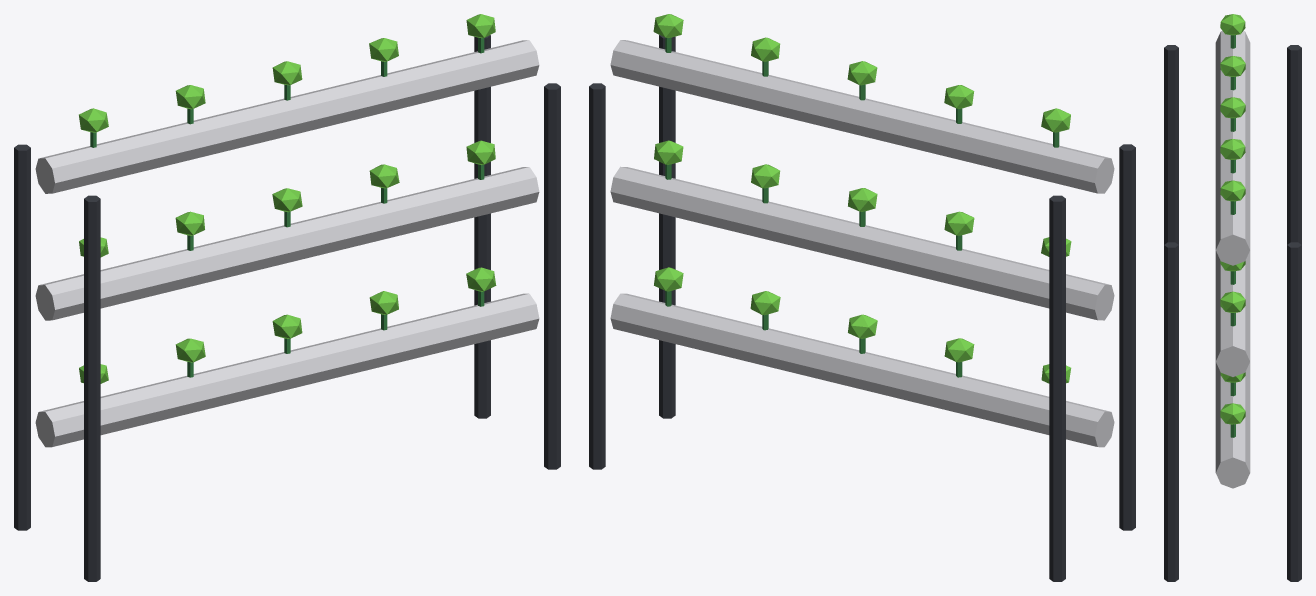
Rendered from hydro_pipe_rack.glb.
The picture shows the model from 3 angles, left to right: view 1: azimuth 30°, elevation 25°; view 2: azimuth 150°, elevation 25°; view 3: azimuth 270°, elevation 25°; orthographic projection. The views are drawn at different scales.
Visible parts, largest first — view 1: pipe_rack; view 2: pipe_rack; view 3: pipe_rack.
Boxes of the visible parts, x1,y1,x2,y2 form: pipe_rack: [14, 14, 560, 581]; pipe_rack: [589, 14, 1135, 581]; pipe_rack: [1164, 14, 1301, 581].
Size of the model in its own units: 2 by 1.72 by 0.56.
